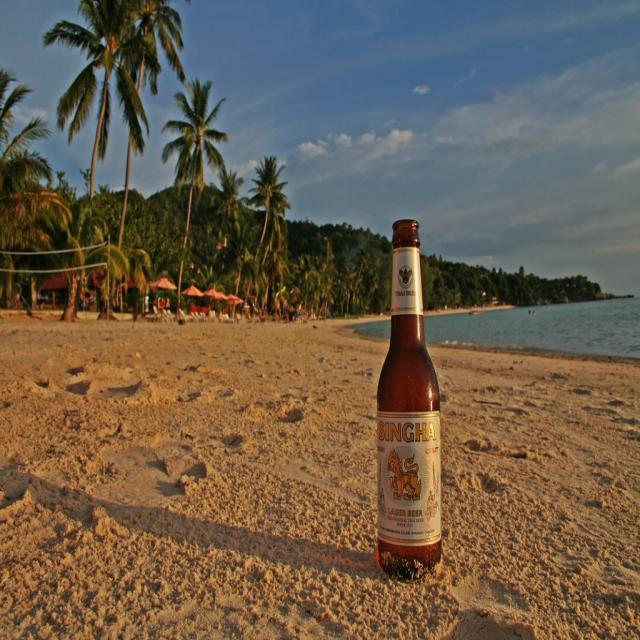singha: (378, 414, 442, 546)
